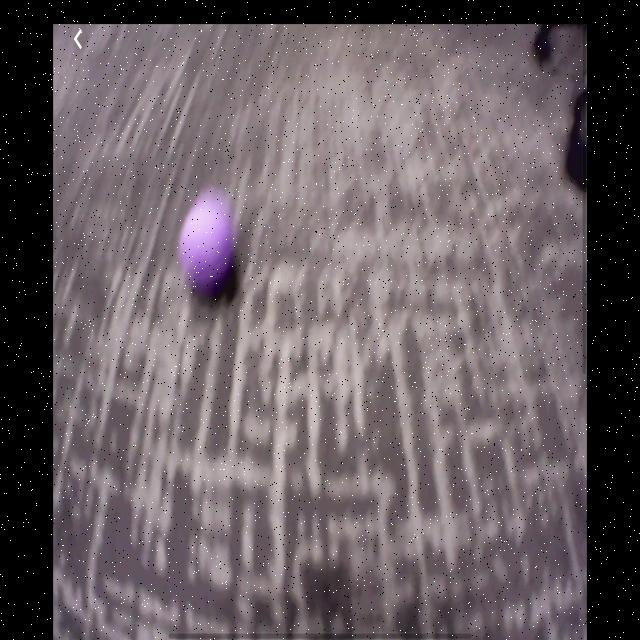ball: (181, 200, 238, 296)
